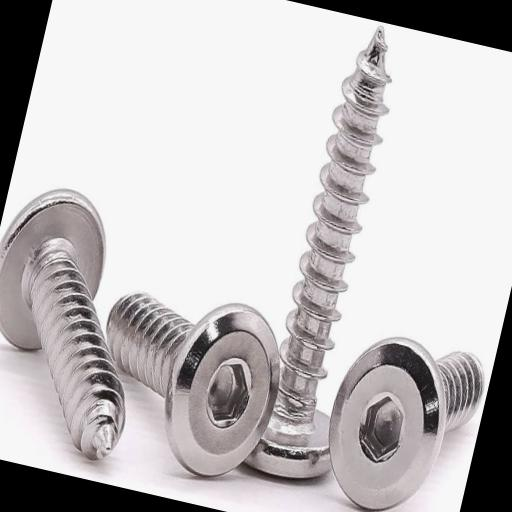Hex-Allen: (154, 288, 296, 488), (314, 325, 459, 512)
